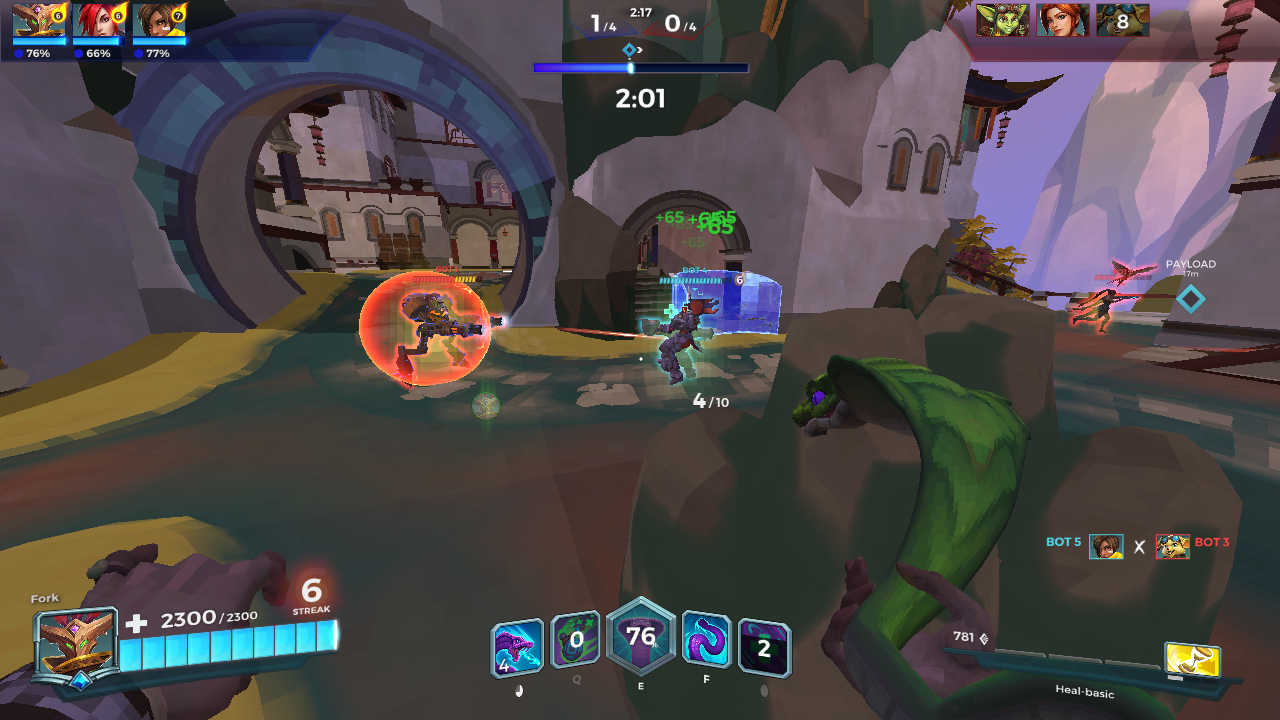model: (388, 290, 497, 388), (1075, 285, 1122, 329)
